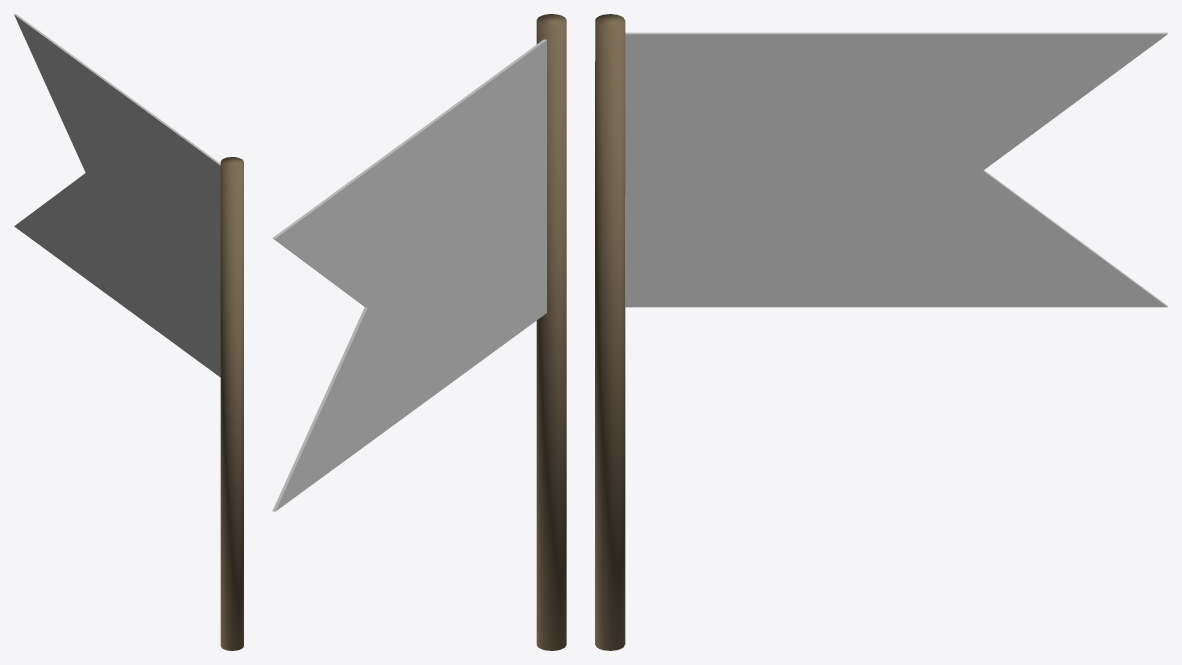
The model's file is MountSummitFlag.fbx.
3 views of the same model, side by side, from view 1: azimuth 30°, elevation 25°; view 2: azimuth 150°, elevation 25°; view 3: azimuth 270°, elevation 25° (orthographic). The views are drawn at different scales.
Visible parts, largest first — view 1: Plane, Cylinder; view 2: Plane, Cylinder; view 3: Plane, Cylinder.
Part boxes in pixels (box(x1,y1,x2,y2)): Plane: box(14, 14, 220, 377); Cylinder: box(220, 157, 243, 650); Plane: box(272, 39, 546, 511); Cylinder: box(536, 14, 566, 650); Plane: box(625, 32, 1167, 307); Cylinder: box(595, 14, 625, 650).
Size of the model in its own units: 11.06 by 252 by 210.
